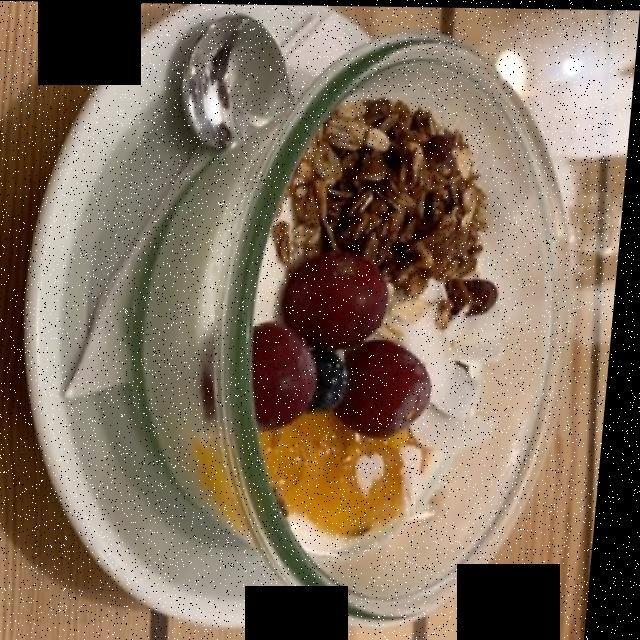coconut: (401, 297, 513, 442)
grapes: (257, 243, 435, 435)
jam: (269, 408, 426, 542)
muesli: (286, 100, 490, 292)
yogurt: (148, 118, 367, 562)
